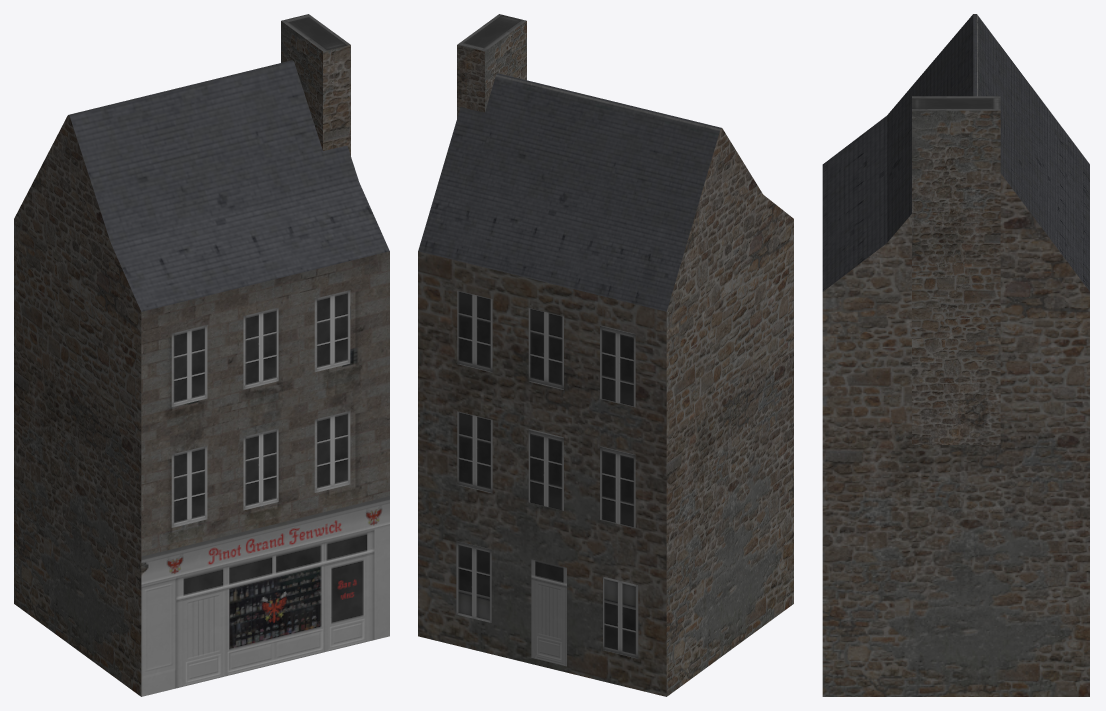
The model's file is small_bar_05.fbx.
3 renders of one model, left to right at view 1: azimuth 30°, elevation 25°; view 2: azimuth 150°, elevation 25°; view 3: azimuth 270°, elevation 25°, orthographic. The views are drawn at different scales.
Visible parts, largest first — view 1: small_bar_05; view 2: small_bar_05; view 3: small_bar_05.
Boxes of the visible parts, x1,y1,x2,y2 form: small_bar_05: (14, 14, 389, 696); small_bar_05: (418, 14, 793, 696); small_bar_05: (822, 14, 1089, 696).
Bounding box in the file's own units: 691 × 1466 × 608.
Materials: 1 (1 with a texture image).
